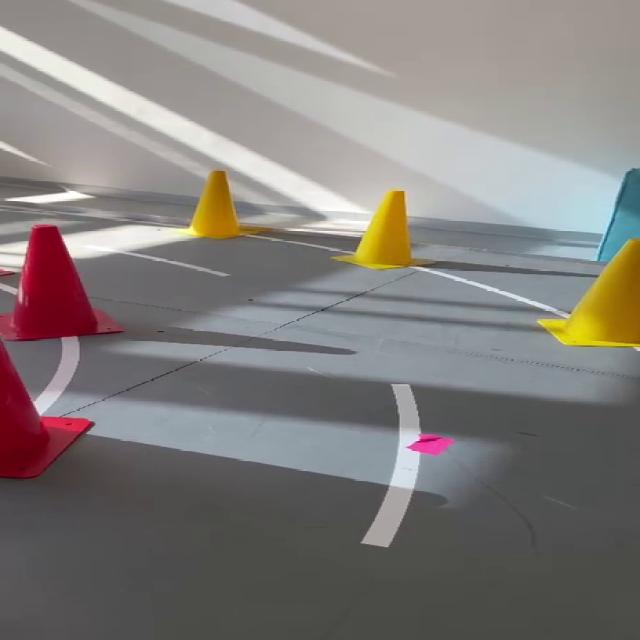Cone-red: (0, 213, 131, 349), (0, 348, 117, 493)
Cones-yellow: (549, 229, 640, 368), (349, 177, 448, 284), (172, 154, 274, 250)
